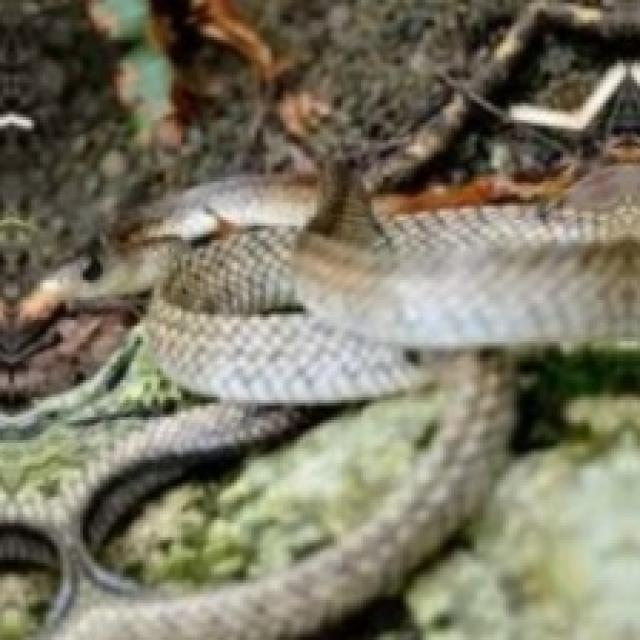smooth-scaled mountain rat snake: (0, 166, 637, 637)
